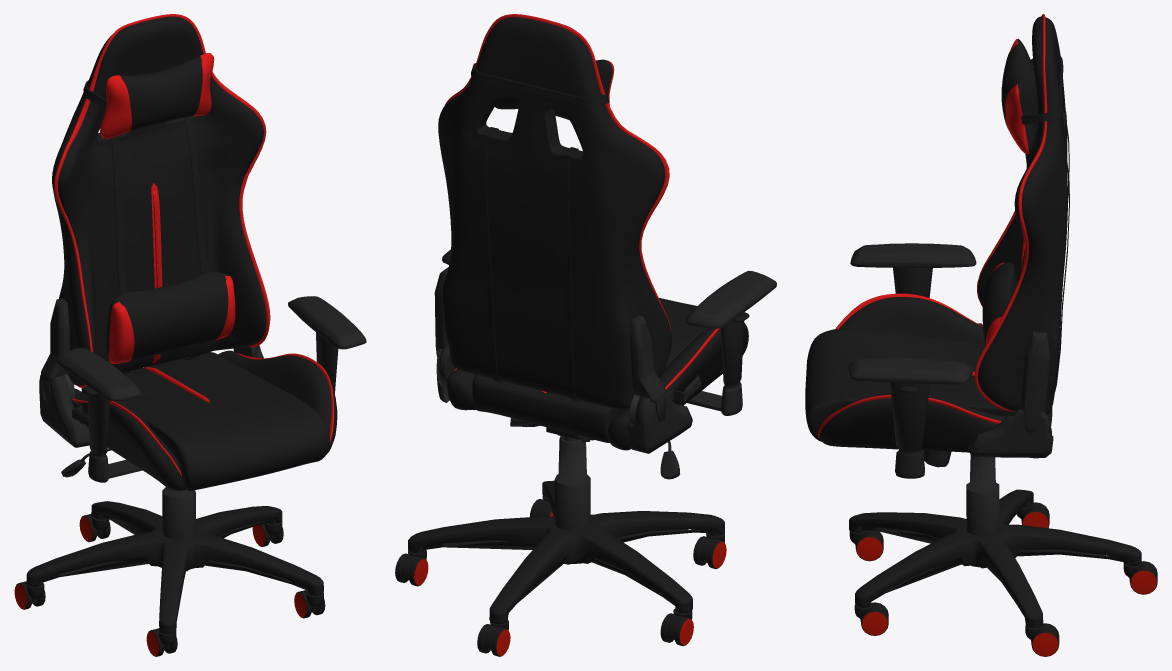
Rendered from chair-opt.glb.
3 views of the same model, side by side, from view 1: azimuth 30°, elevation 25°; view 2: azimuth 150°, elevation 25°; view 3: azimuth 270°, elevation 25° (orthographic). The views are drawn at different scales.
Parts seen in each view (by area): view 1: Mesh1 skp7AF7_1 Model__auto__0, Mesh14 skp7AF7_1 Model_Plastic_Black_Matte_0, Mesh13 skp7AF7_1 Model__auto_5.001_0, Mesh2 skp7AF7_1 Model__auto_1_0; view 2: Mesh1 skp7AF7_1 Model__auto__0, Mesh14 skp7AF7_1 Model_Plastic_Black_Matte_0, Mesh13 skp7AF7_1 Model__auto_5.001_0, Mesh2 skp7AF7_1 Model__auto_1_0; view 3: Mesh1 skp7AF7_1 Model__auto__0, Mesh14 skp7AF7_1 Model_Plastic_Black_Matte_0, Mesh13 skp7AF7_1 Model__auto_5.001_0, Mesh2 skp7AF7_1 Model__auto_1_0.
Part boxes in pixels (x1,y1,x2,y2): Mesh1 skp7AF7_1 Model__auto__0: (16, 16, 337, 656); Mesh14 skp7AF7_1 Model_Plastic_Black_Matte_0: (39, 296, 366, 539); Mesh13 skp7AF7_1 Model__auto_5.001_0: (54, 14, 333, 476); Mesh2 skp7AF7_1 Model__auto_1_0: (14, 516, 306, 656); Mesh1 skp7AF7_1 Model__auto__0: (395, 17, 749, 656); Mesh14 skp7AF7_1 Model_Plastic_Black_Matte_0: (434, 249, 776, 530); Mesh13 skp7AF7_1 Model__auto_5.001_0: (445, 14, 720, 393); Mesh2 skp7AF7_1 Model__auto_1_0: (414, 511, 726, 656); Mesh1 skp7AF7_1 Model__auto__0: (805, 16, 1157, 656); Mesh14 skp7AF7_1 Model_Plastic_Black_Matte_0: (848, 243, 1053, 536); Mesh13 skp7AF7_1 Model__auto_5.001_0: (818, 14, 1047, 437); Mesh2 skp7AF7_1 Model__auto_1_0: (856, 511, 1156, 656).
Bounding box in the file's own units: 2650 × 5308 × 2990.
